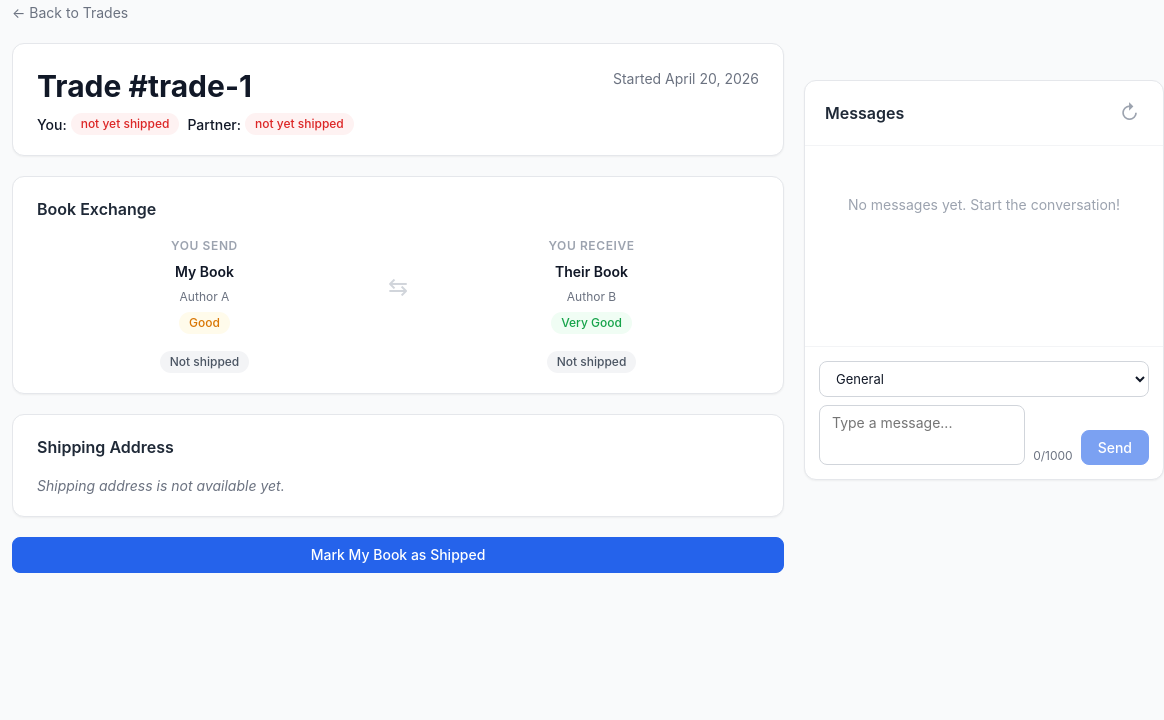
Test: TradeDetail page › shows action error when message send fails
Expected: the text "My Book" is shown, [175, 261, 234, 282]
Type "hello" into the text box with placeholder "Type a message..." at (922, 435), box [819, 405, 1025, 465]
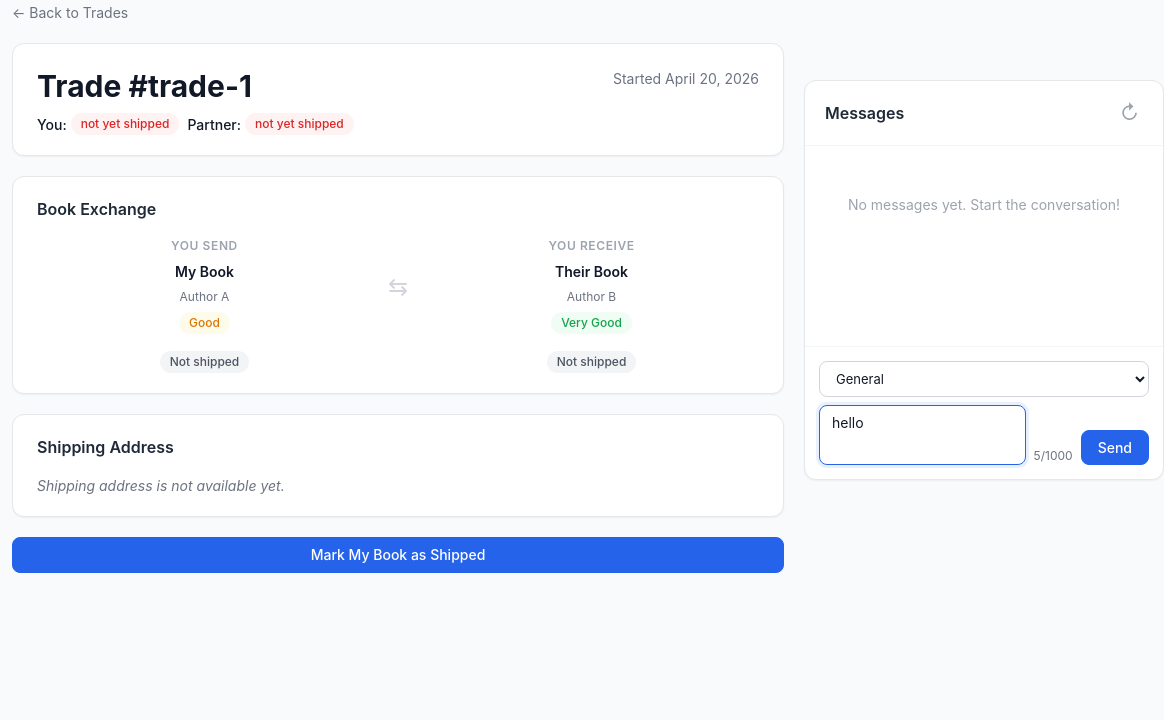
Click the button with aria-label "Send message" at (1115, 447), box [1081, 430, 1149, 465]
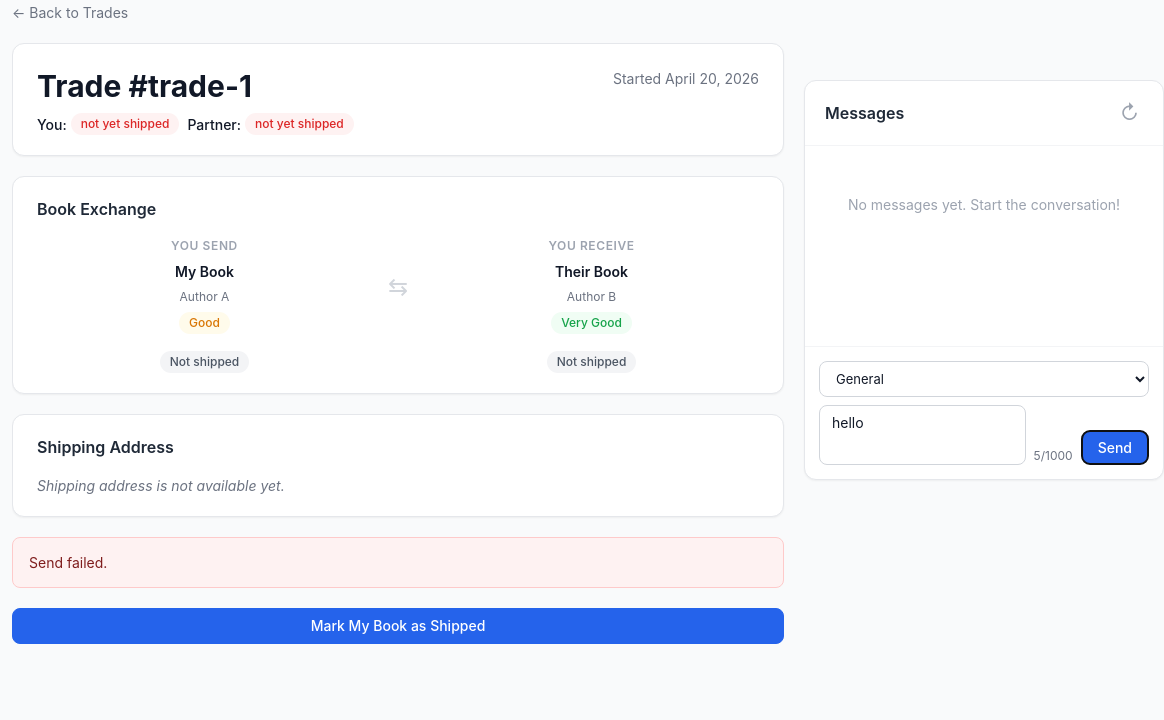
Expected: the text "Send failed." is shown, [12, 537, 784, 588]
